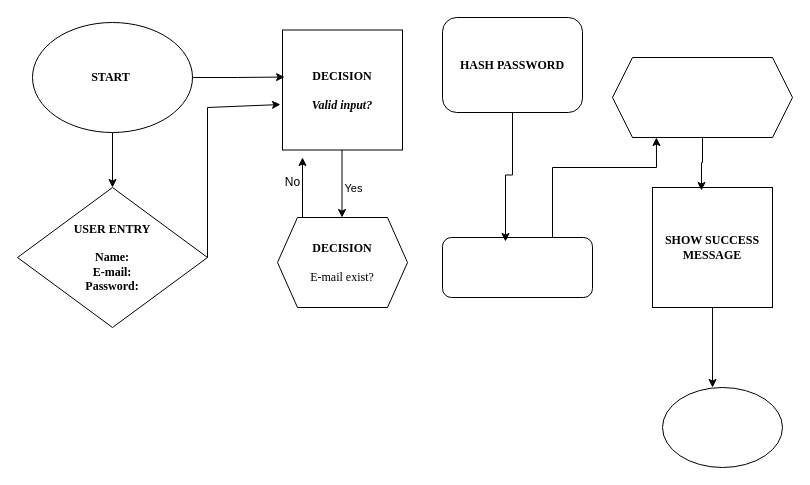
Some shapes in this 810 by 485 pixel diagram are drawn without their labels. Here are the shapes that lost their labels. From the top down, the centre of each, then its label:
At [702,97]: "SEND CONFIRMATION E-MAIL".
At [517,267]: "SAVE USER TO DB".
At [722,427]: "END".
